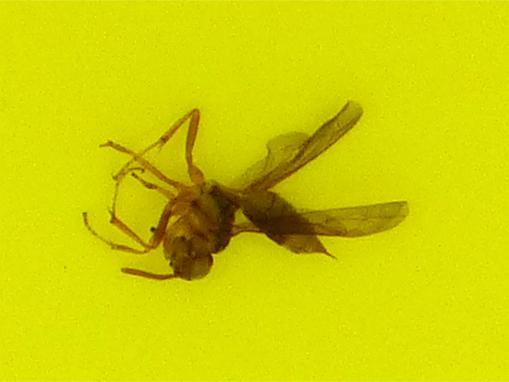Hymenoptera: (100, 100, 409, 282)
